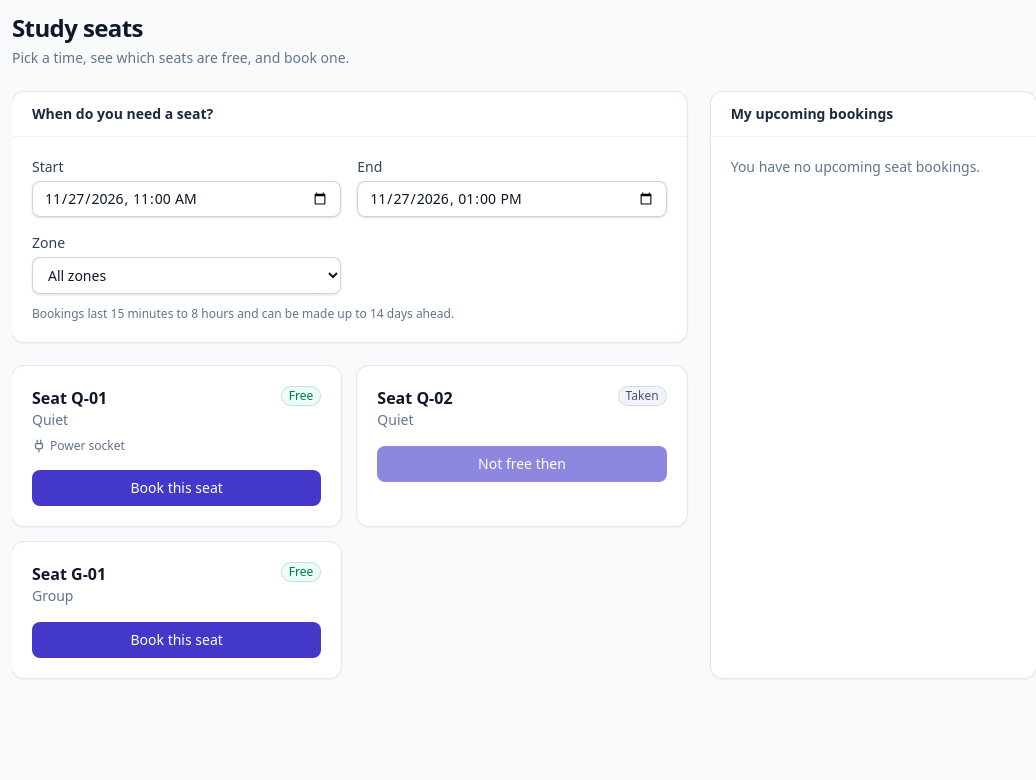
StudentSeatsPage › shows the backend reason when someone else got the seat first, and refreshes the picture
Click the button with aria-label "Book seat Q-01" at (177, 488), box [32, 470, 321, 506]
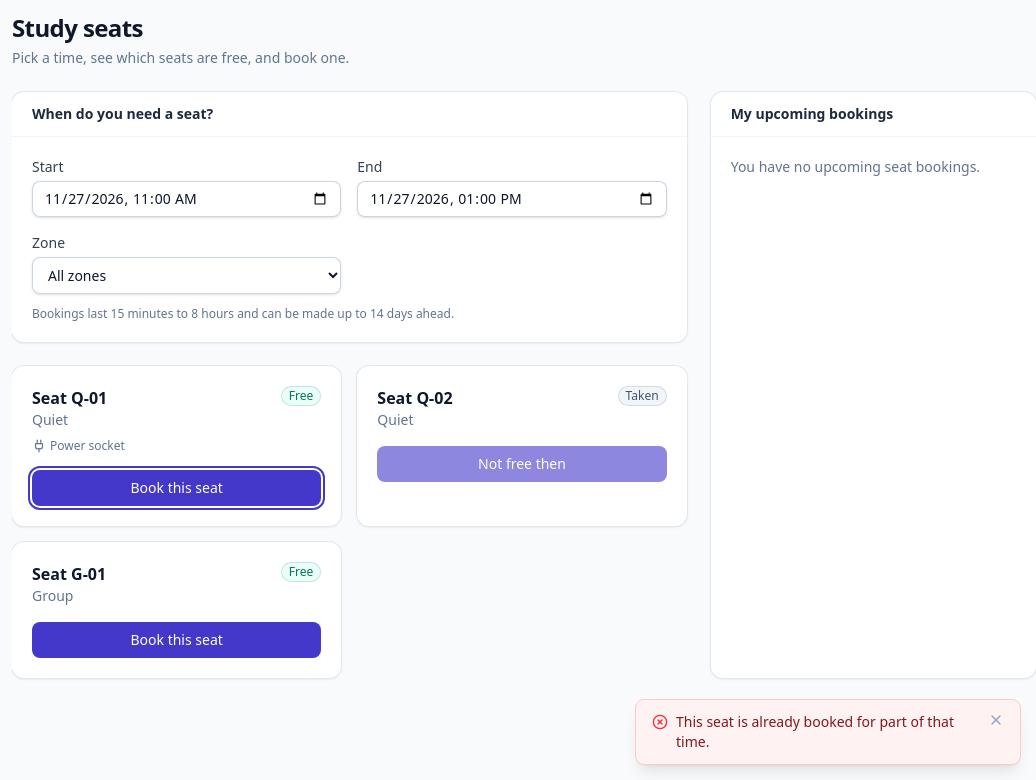
Expected: the text "This seat is already booked for part of that time." is shown, [676, 712, 980, 752]
